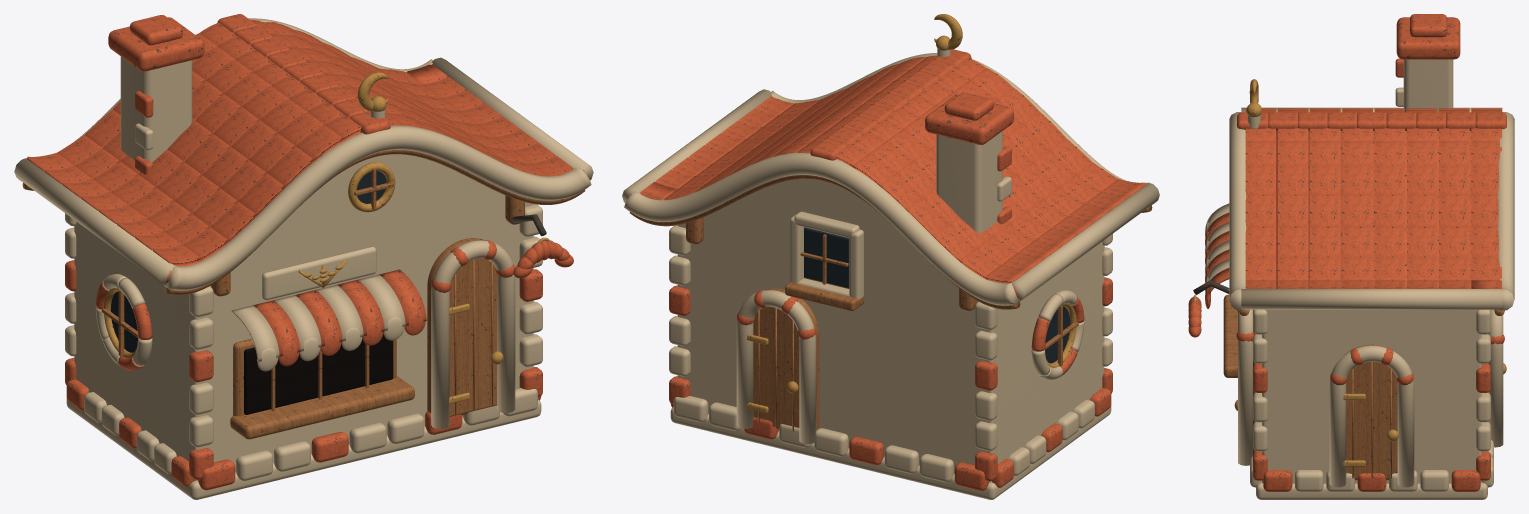
The model's file is B2_面包店_分享包版.glb.
The picture shows the model from 3 angles, left to right: view 1: azimuth 30°, elevation 25°; view 2: azimuth 150°, elevation 25°; view 3: azimuth 270°, elevation 25°; orthographic projection. The views are drawn at different scales.
Visible parts, largest first — view 1: Closed cottage shell, Sculpted ivory eave, Rounded sandstone arch, Inset door, Bakery dark glass, Ivory chimney, Bakery sill, Stone foundation, Side roof closed lip, Bakery wooden sign, Coral chimney cap, Side roof closed lip.001 (+61 smaller); view 2: Closed cottage shell, Sculpted ivory eave.001, Ivory chimney, Rounded sandstone arch.001, Inset door.001, Stone foundation, Side roof closed lip, Coral chimney cap, Side roof closed lip.001, Inset square glass, Oak eave underside.001, Sculpted ivory eave (+45 smaller); view 3: Closed cottage shell, Side roof closed lip.001, Inset door.002, Rounded sandstone arch.002, Sculpted ivory eave, Sculpted ivory eave.001, Ivory chimney, Continuous closed curved roof, Stone foundation, Rounded sandstone arch, Coral chimney cap, Rounded sandstone arch.001 (+76 smaller).
Boxes of the visible parts, <box> form: Closed cottage shell: <box>74,154,533,480</box>; Sculpted ivory eave: <box>164,125,591,290</box>; Rounded sandstone arch: <box>431,240,515,428</box>; Inset door: <box>449,258,497,416</box>; Bakery dark glass: <box>244,332,393,414</box>; Ivory chimney: <box>120,56,192,162</box>; Bakery sill: <box>230,376,414,439</box>; Stone foundation: <box>66,398,541,499</box>; Side roof closed lip: <box>14,158,175,285</box>; Bakery wooden sign: <box>262,246,376,300</box>; Coral chimney cap: <box>108,17,204,71</box>; Side roof closed lip.001: <box>431,57,593,180</box>; Closed cottage shell: <box>677,179,1104,482</box>; Sculpted ivory eave.001: <box>624,152,1020,305</box>; Ivory chimney: <box>936,131,1002,232</box>; Rounded sandstone arch.001: <box>736,290,816,444</box>; Inset door.001: <box>753,306,799,427</box>; Stone foundation: <box>670,405,1111,499</box>; Side roof closed lip: <box>1010,183,1159,301</box>; Coral chimney cap: <box>925,94,1013,144</box>; Side roof closed lip.001: <box>622,89,772,203</box>; Inset square glass: <box>804,227,849,287</box>; Oak eave underside.001: <box>630,175,1020,309</box>; Sculpted ivory eave: <box>771,53,1155,204</box>; Closed cottage shell: <box>1262,309,1481,483</box>; Side roof closed lip.001: <box>1241,289,1502,309</box>; Inset door.002: <box>1346,362,1397,478</box>; Rounded sandstone arch.002: <box>1329,345,1414,487</box>; Sculpted ivory eave: <box>1229,112,1246,310</box>; Sculpted ivory eave.001: <box>1497,112,1514,310</box>; Ivory chimney: <box>1403,59,1453,112</box>; Continuous closed curved roof: <box>1276,131,1471,288</box>; Stone foundation: <box>1256,482,1487,499</box>; Rounded sandstone arch: <box>1238,309,1252,465</box>; Coral chimney cap: <box>1396,17,1460,59</box>; Rounded sandstone arch.001: <box>1488,309,1503,447</box>.
Size of the model in its own units: 5.16 by 4.48 by 3.74.
Materials: 7 (7 with a texture image).
